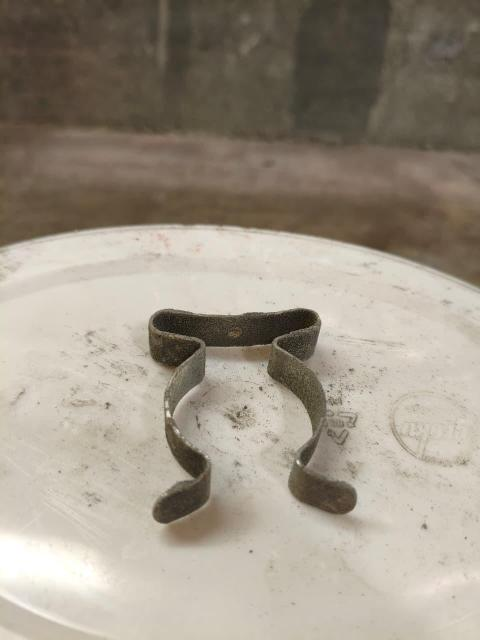Metal: (148, 306, 359, 523)
